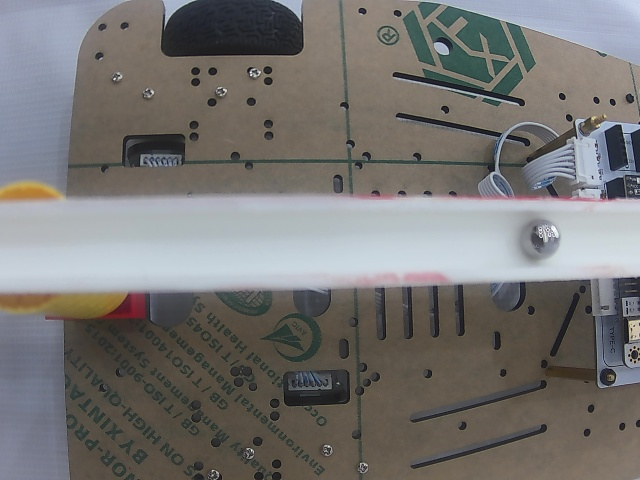steelball: (520, 220, 561, 260)
